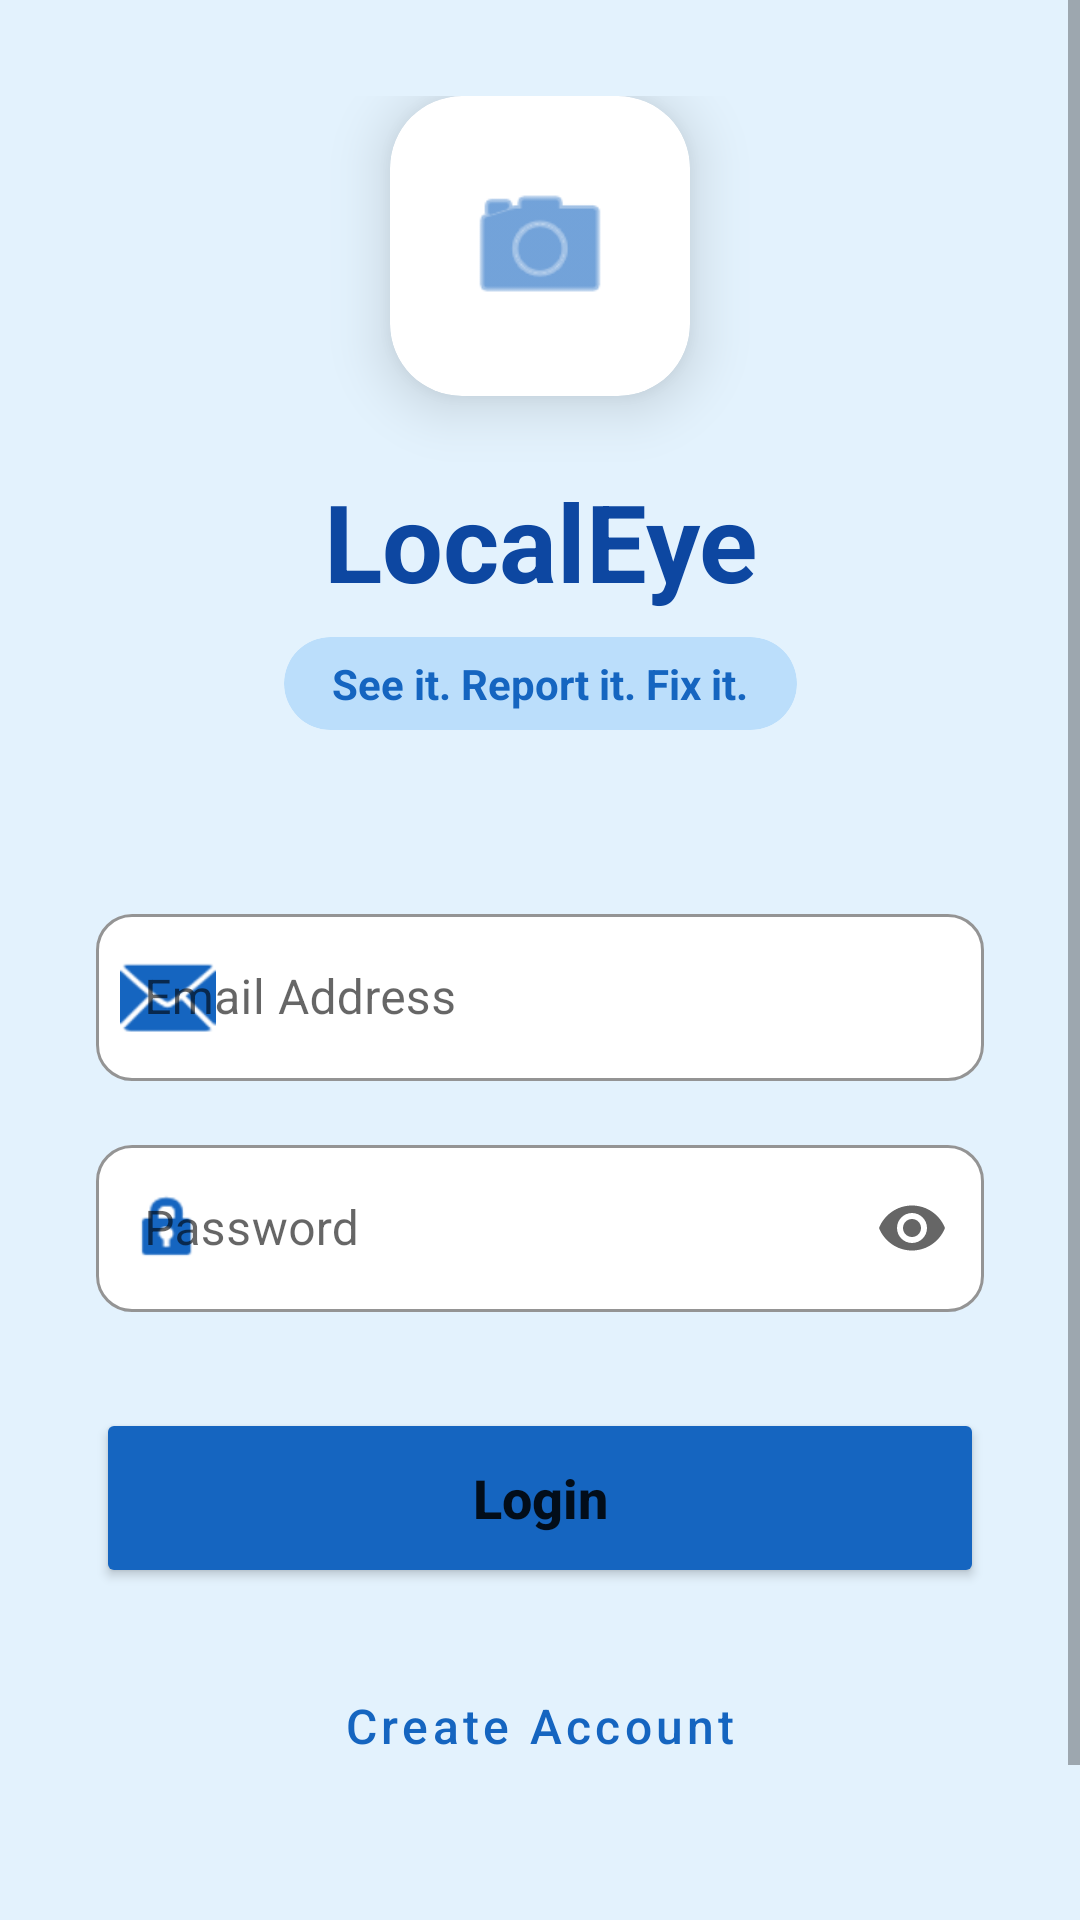

Icon click points for this 1080px x 1920px phone screenshot, format point (x, y):
camera: point (540, 246)
